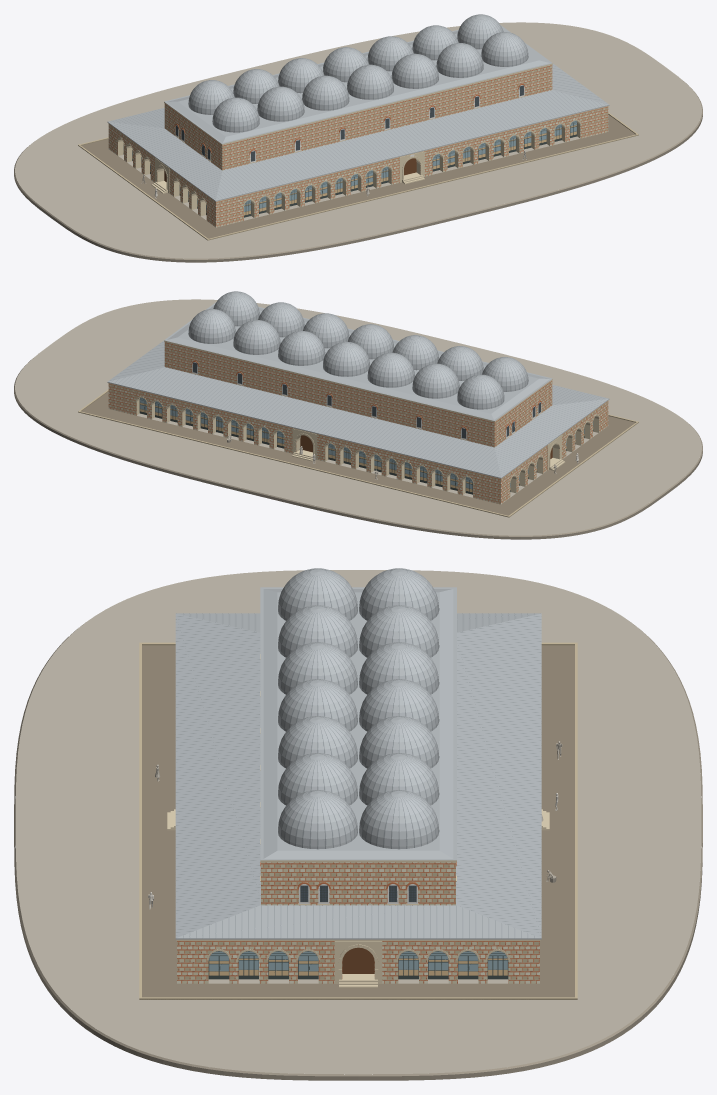
The model's file is bedesten_v11_sunum.glb.
3 renders of one model, top to bottom at view 1: azimuth 30°, elevation 25°; view 2: azimuth 150°, elevation 25°; view 3: azimuth 270°, elevation 25°, orthographic. The views are drawn at different scales.
Parts seen in each view (by area): view 1: Zemin, Dukkanlar, Kubbeler, Govde, Zemin_Serit, Govde_Ortu, Zemin_Bordur, Kapilar; view 2: Zemin, Dukkanlar, Kubbeler, Govde, Zemin_Serit, Govde_Ortu, Zemin_Bordur, Kapilar; view 3: Zemin, Dukkanlar, Kubbeler, Zemin_Serit, Govde_Ortu, Govde, Zemin_Bordur, Kapilar.
Part boxes in pixels (<box>): Zemin: <box>14,22,702,262</box>; Dukkanlar: <box>107,25,609,227</box>; Kubbeler: <box>188,14,528,132</box>; Govde: <box>164,26,552,170</box>; Zemin_Serit: <box>81,114,635,238</box>; Govde_Ortu: <box>167,28,549,142</box>; Zemin_Bordur: <box>78,112,638,240</box>; Kapilar: <box>151,151,424,193</box>; Zemin: <box>14,299,702,539</box>; Dukkanlar: <box>107,302,609,504</box>; Kubbeler: <box>188,291,528,409</box>; Govde: <box>164,303,552,447</box>; Zemin_Serit: <box>81,391,635,515</box>; Govde_Ortu: <box>167,305,549,419</box>; Zemin_Bordur: <box>78,389,638,517</box>; Kapilar: <box>292,428,565,470</box>; Zemin: <box>14,570,702,1080</box>; Dukkanlar: <box>175,587,541,983</box>; Kubbeler: <box>278,568,439,849</box>; Zemin_Serit: <box>140,645,577,999</box>; Govde_Ortu: <box>263,589,453,858</box>; Govde: <box>260,588,456,905</box>; Zemin_Bordur: <box>139,642,577,999</box>; Kapilar: <box>167,809,549,987</box>.
Bounding box in the file's own units: 110 × 14.8 × 63.63.
Materials: 26 (7 with a texture image).
